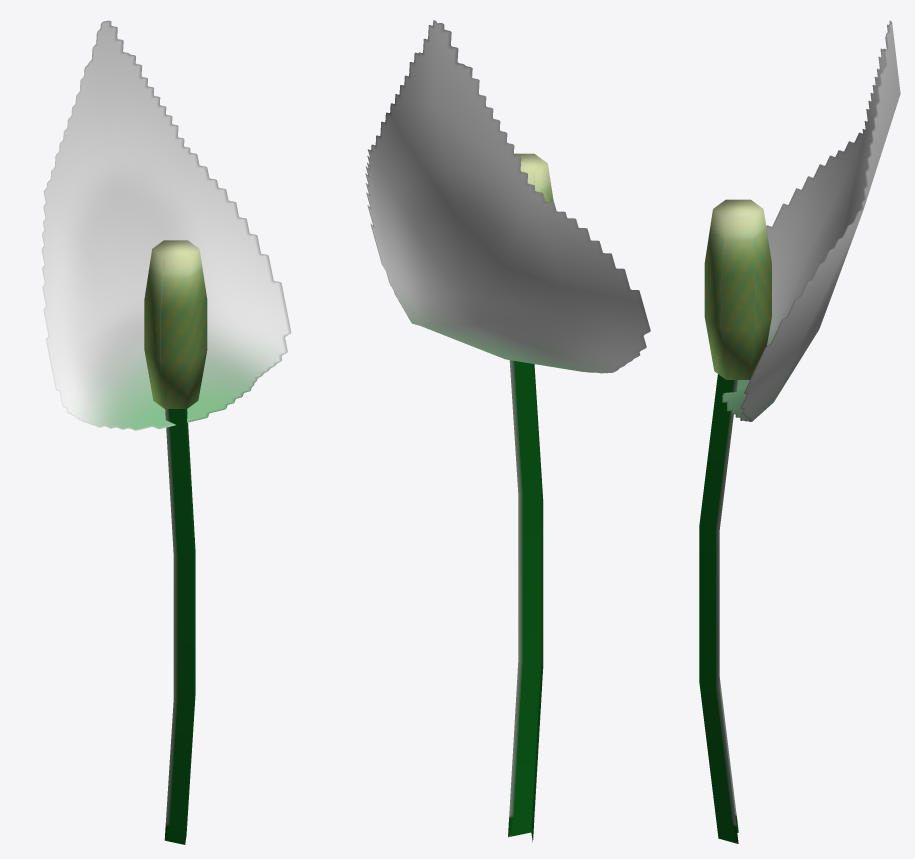
The model's file is water_arum_flower.fbx.
3 views of the same model, side by side, from view 1: azimuth 30°, elevation 25°; view 2: azimuth 150°, elevation 25°; view 3: azimuth 270°, elevation 25° (orthographic). The views are drawn at different scales.
Parts seen in each view (by area): view 1: water_arum_flower; view 2: water_arum_flower; view 3: water_arum_flower.
Part boxes in pixels (left/top/right/bottom): water_arum_flower: left=41, top=20, right=291, bottom=844; water_arum_flower: left=365, top=20, right=650, bottom=842; water_arum_flower: left=699, top=20, right=900, bottom=843.
Bounding box in the file's own units: 56.83 × 176 × 38.88.
1 material, 1 textured.
